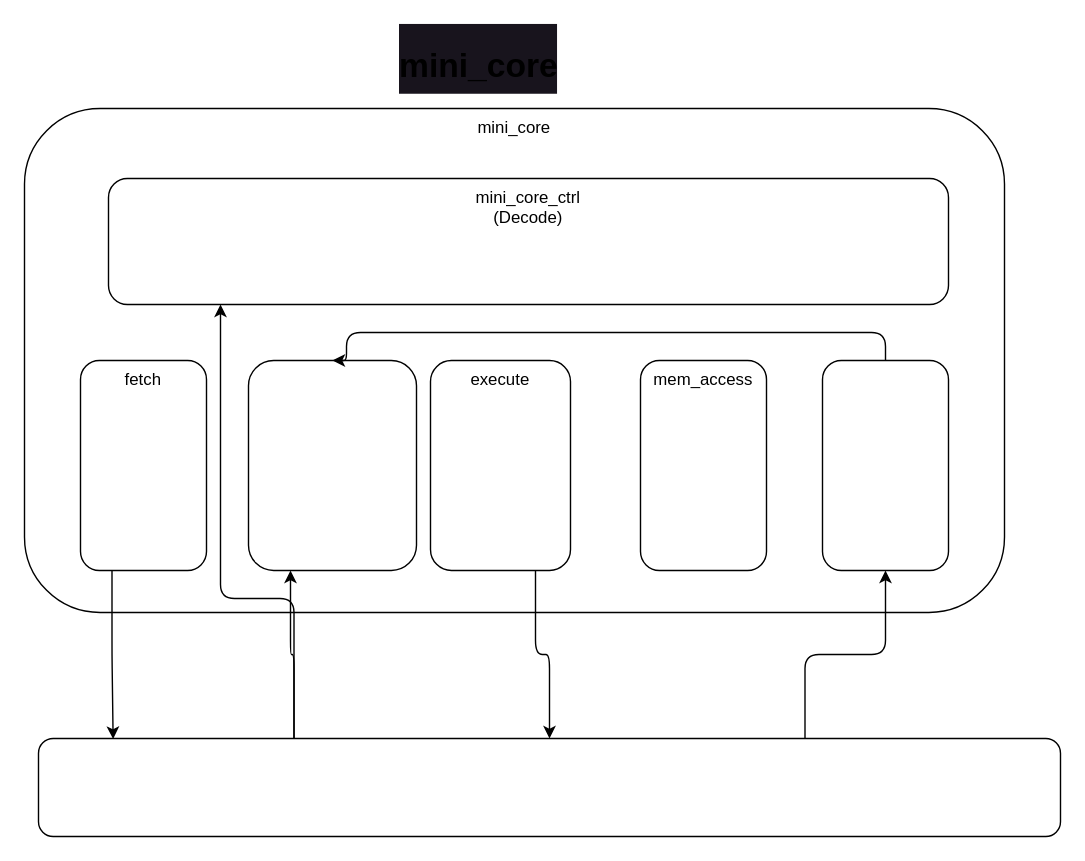
The diagram is 1085 pixels wide and 861 high, and some of its shapes have lost their labels. Each missing label, with the centre of its shape:
mini_core_mem_wrap: point (548, 786)
register_file: point (331, 464)
wr_back: point (884, 464)
